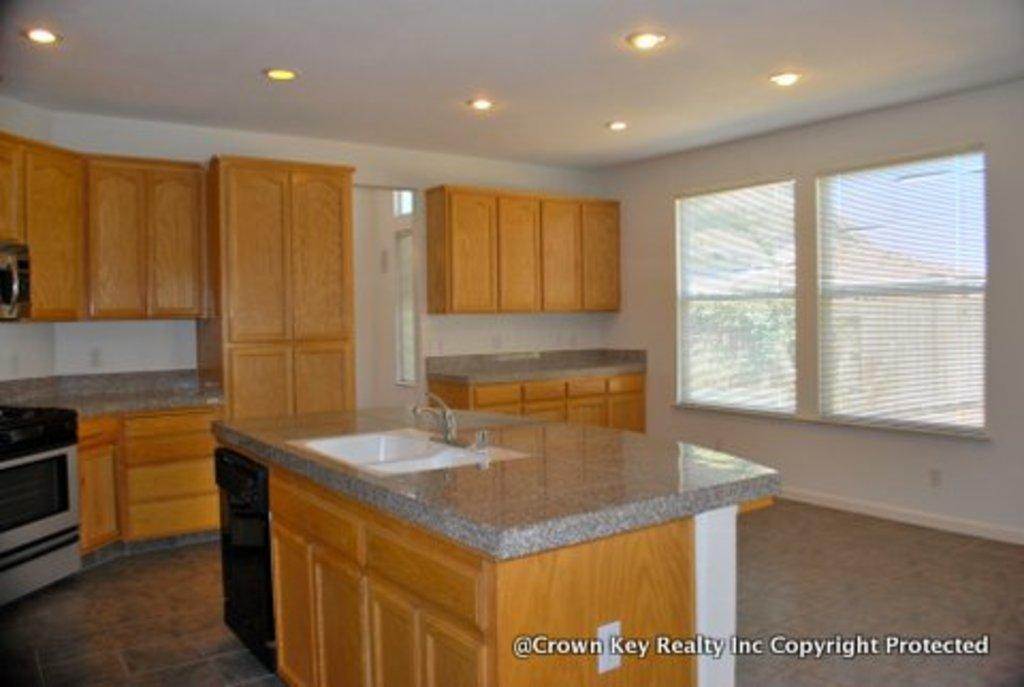cabinet_door: (221, 160, 291, 344), (291, 164, 351, 342), (22, 149, 80, 309), (150, 178, 204, 316), (91, 171, 143, 312), (326, 565, 370, 686), (278, 545, 314, 687), (536, 203, 582, 306), (500, 200, 543, 306), (578, 205, 620, 312), (456, 194, 494, 309), (232, 352, 294, 421), (292, 348, 358, 412), (424, 621, 488, 687), (378, 605, 420, 687), (130, 502, 222, 530), (138, 462, 220, 493), (130, 433, 214, 455), (614, 396, 642, 437), (566, 403, 604, 427)
handle: (12, 262, 26, 310)
